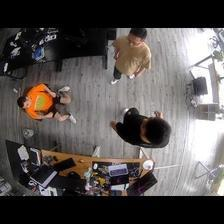normal: (14, 83, 77, 125), (112, 108, 172, 150), (111, 27, 151, 86)
